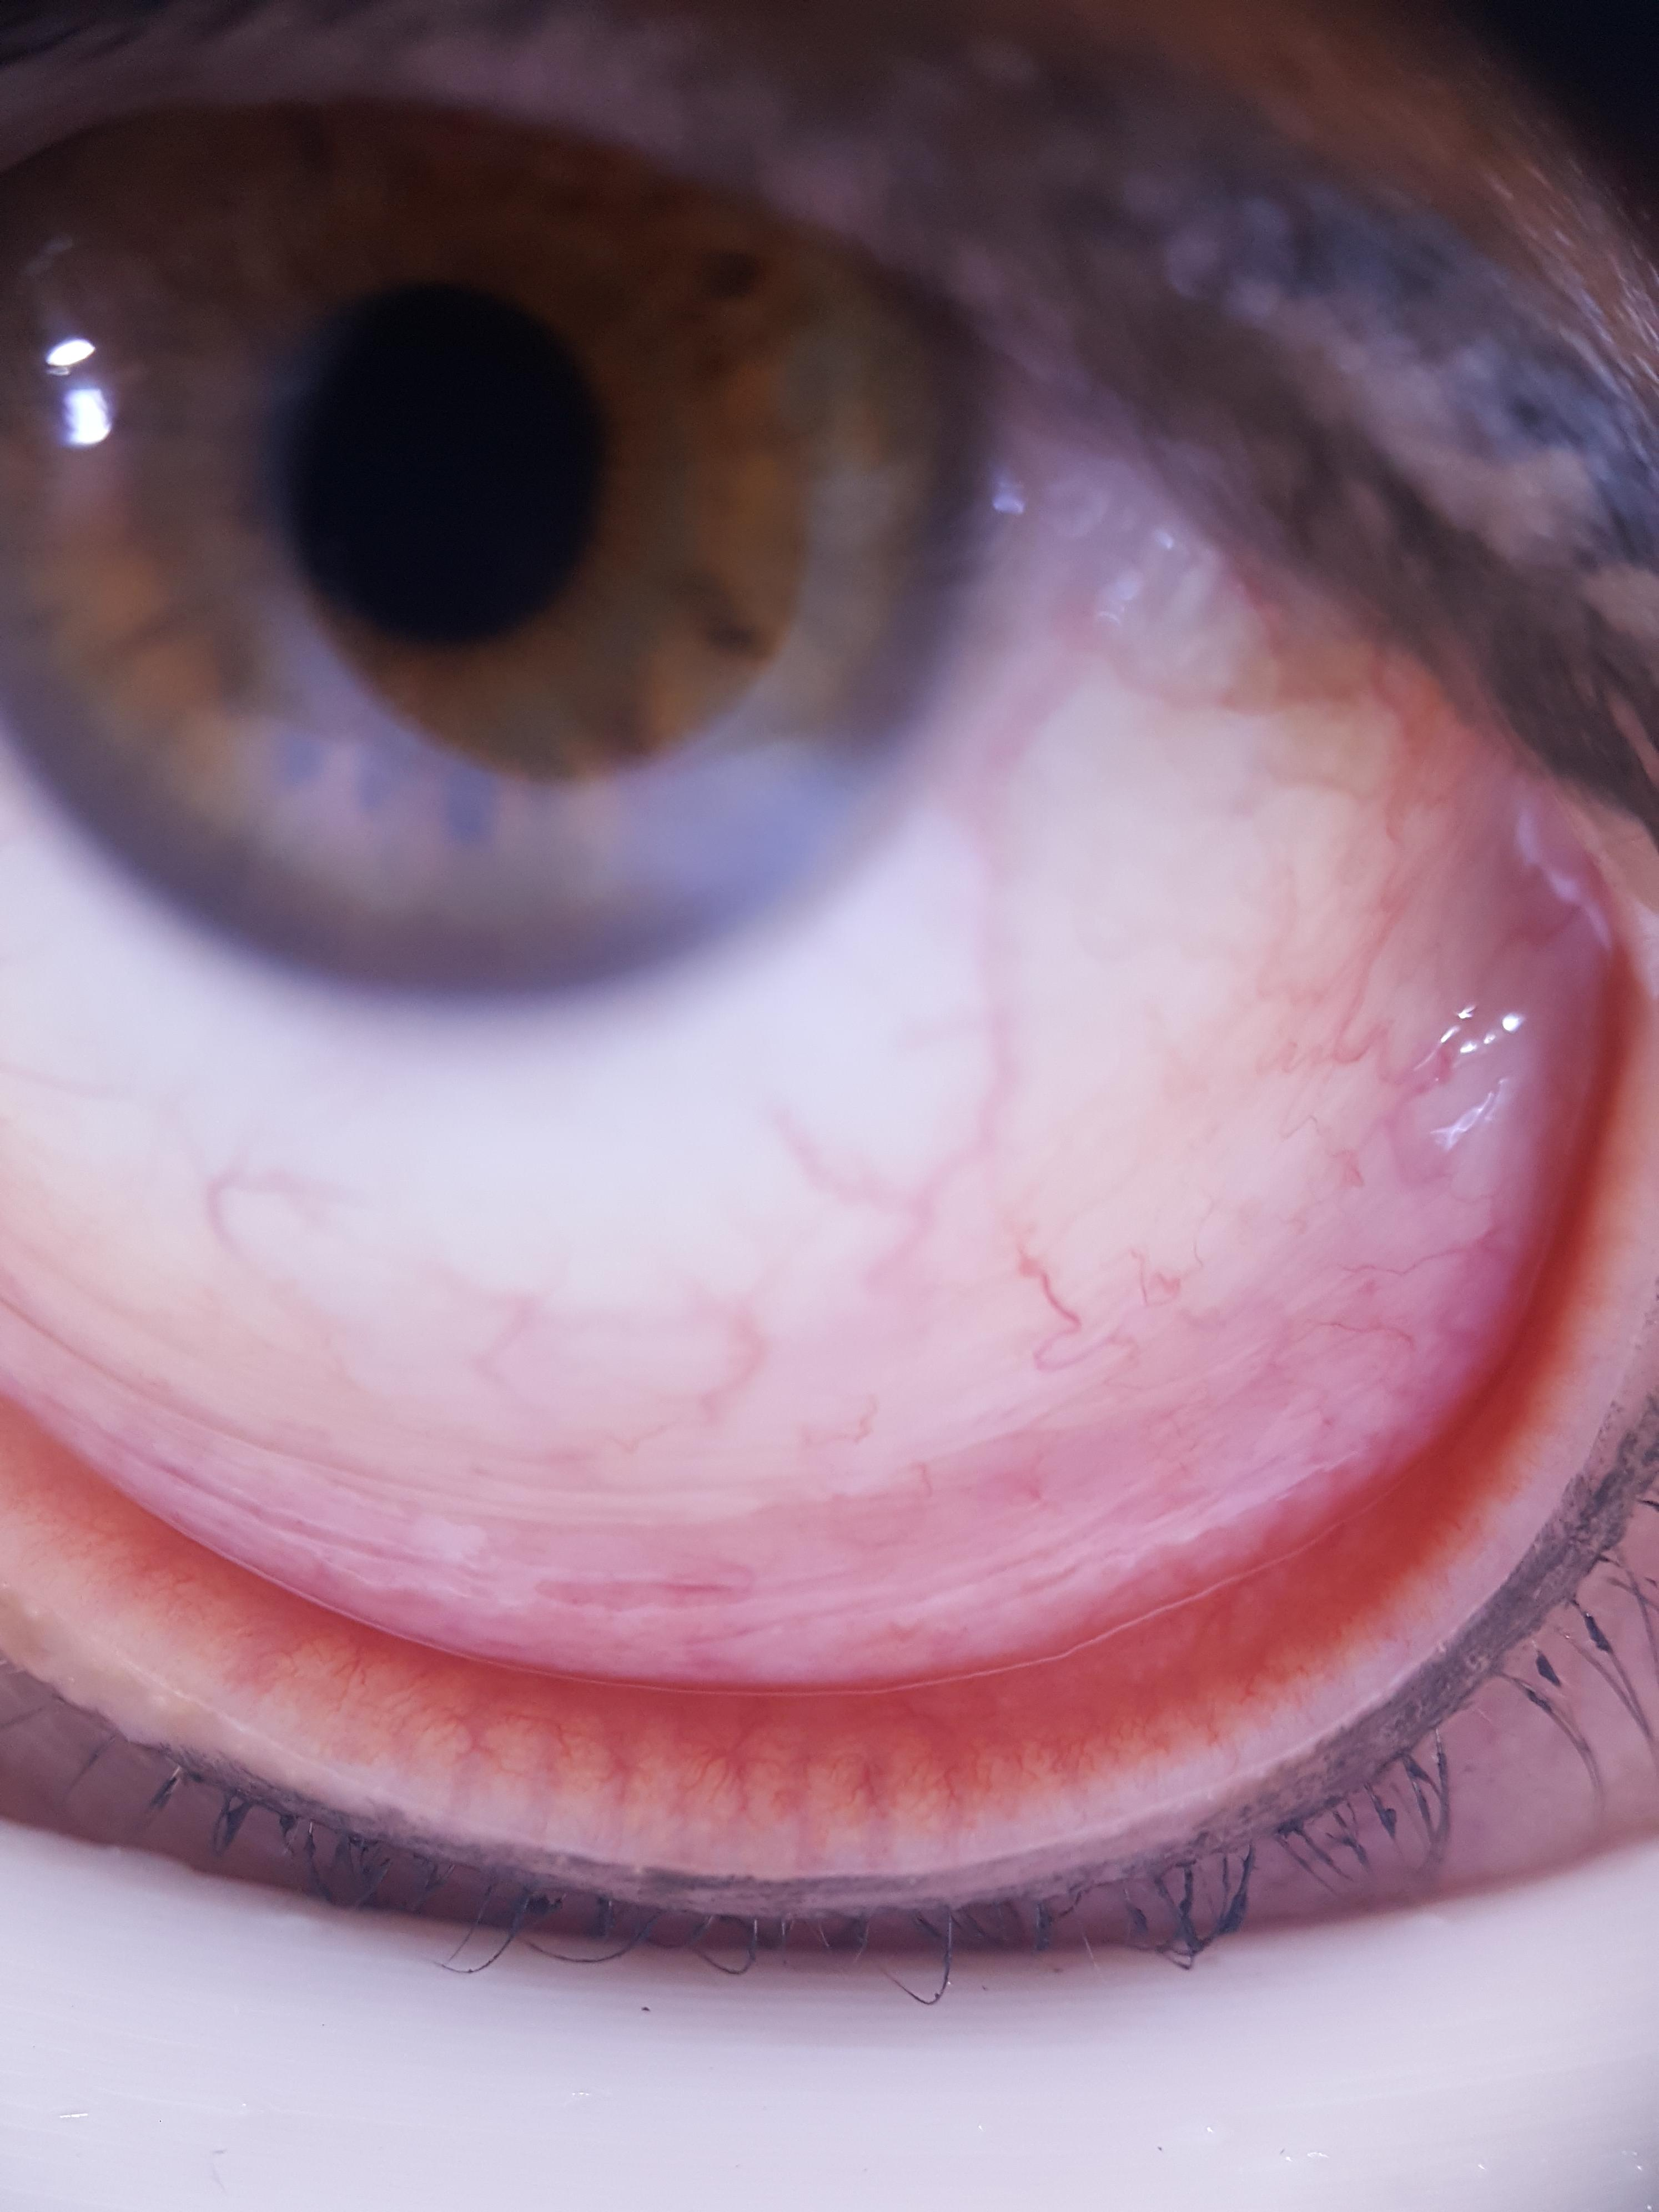forniceal: (0, 979, 1601, 1681)
forniceal_palpebral: (0, 932, 1659, 1817)
palpebral: (0, 948, 1645, 1808)
